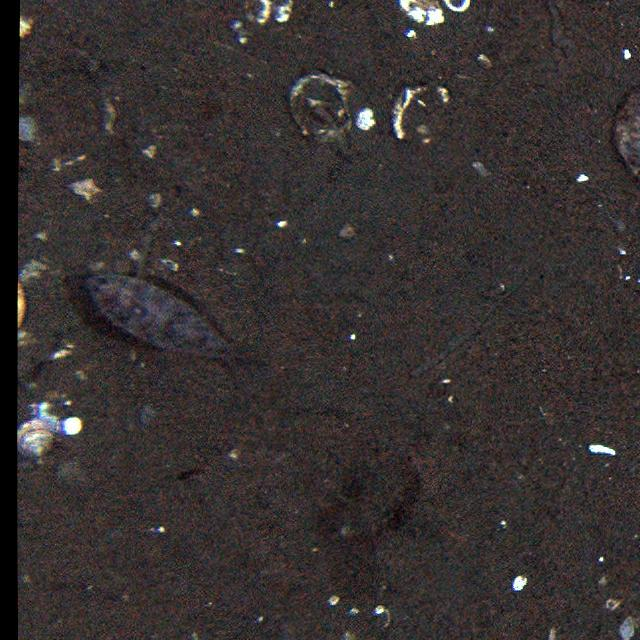flatfish: (86, 268, 254, 373)
